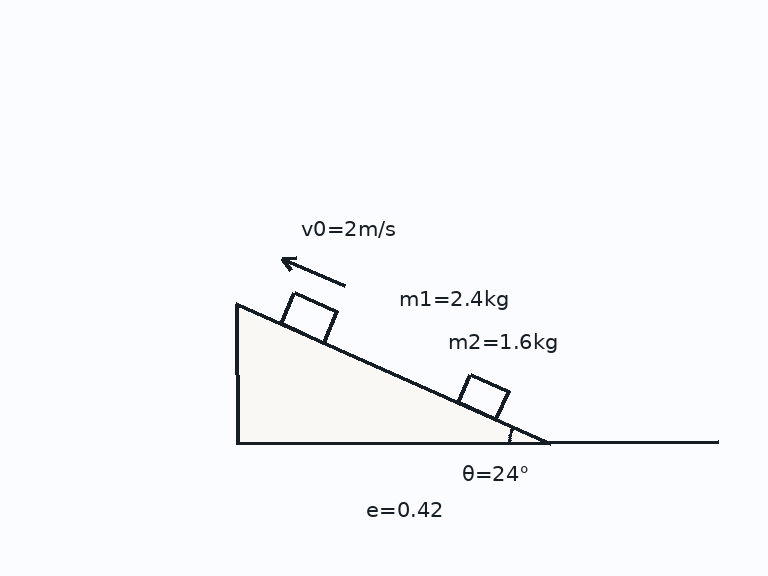block: (278, 290, 339, 344), (455, 372, 510, 421)
ramp: (235, 302, 551, 445)
